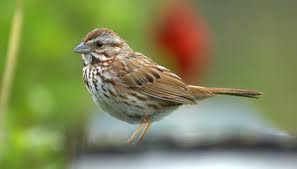hsparrow: (63, 24, 270, 145)
